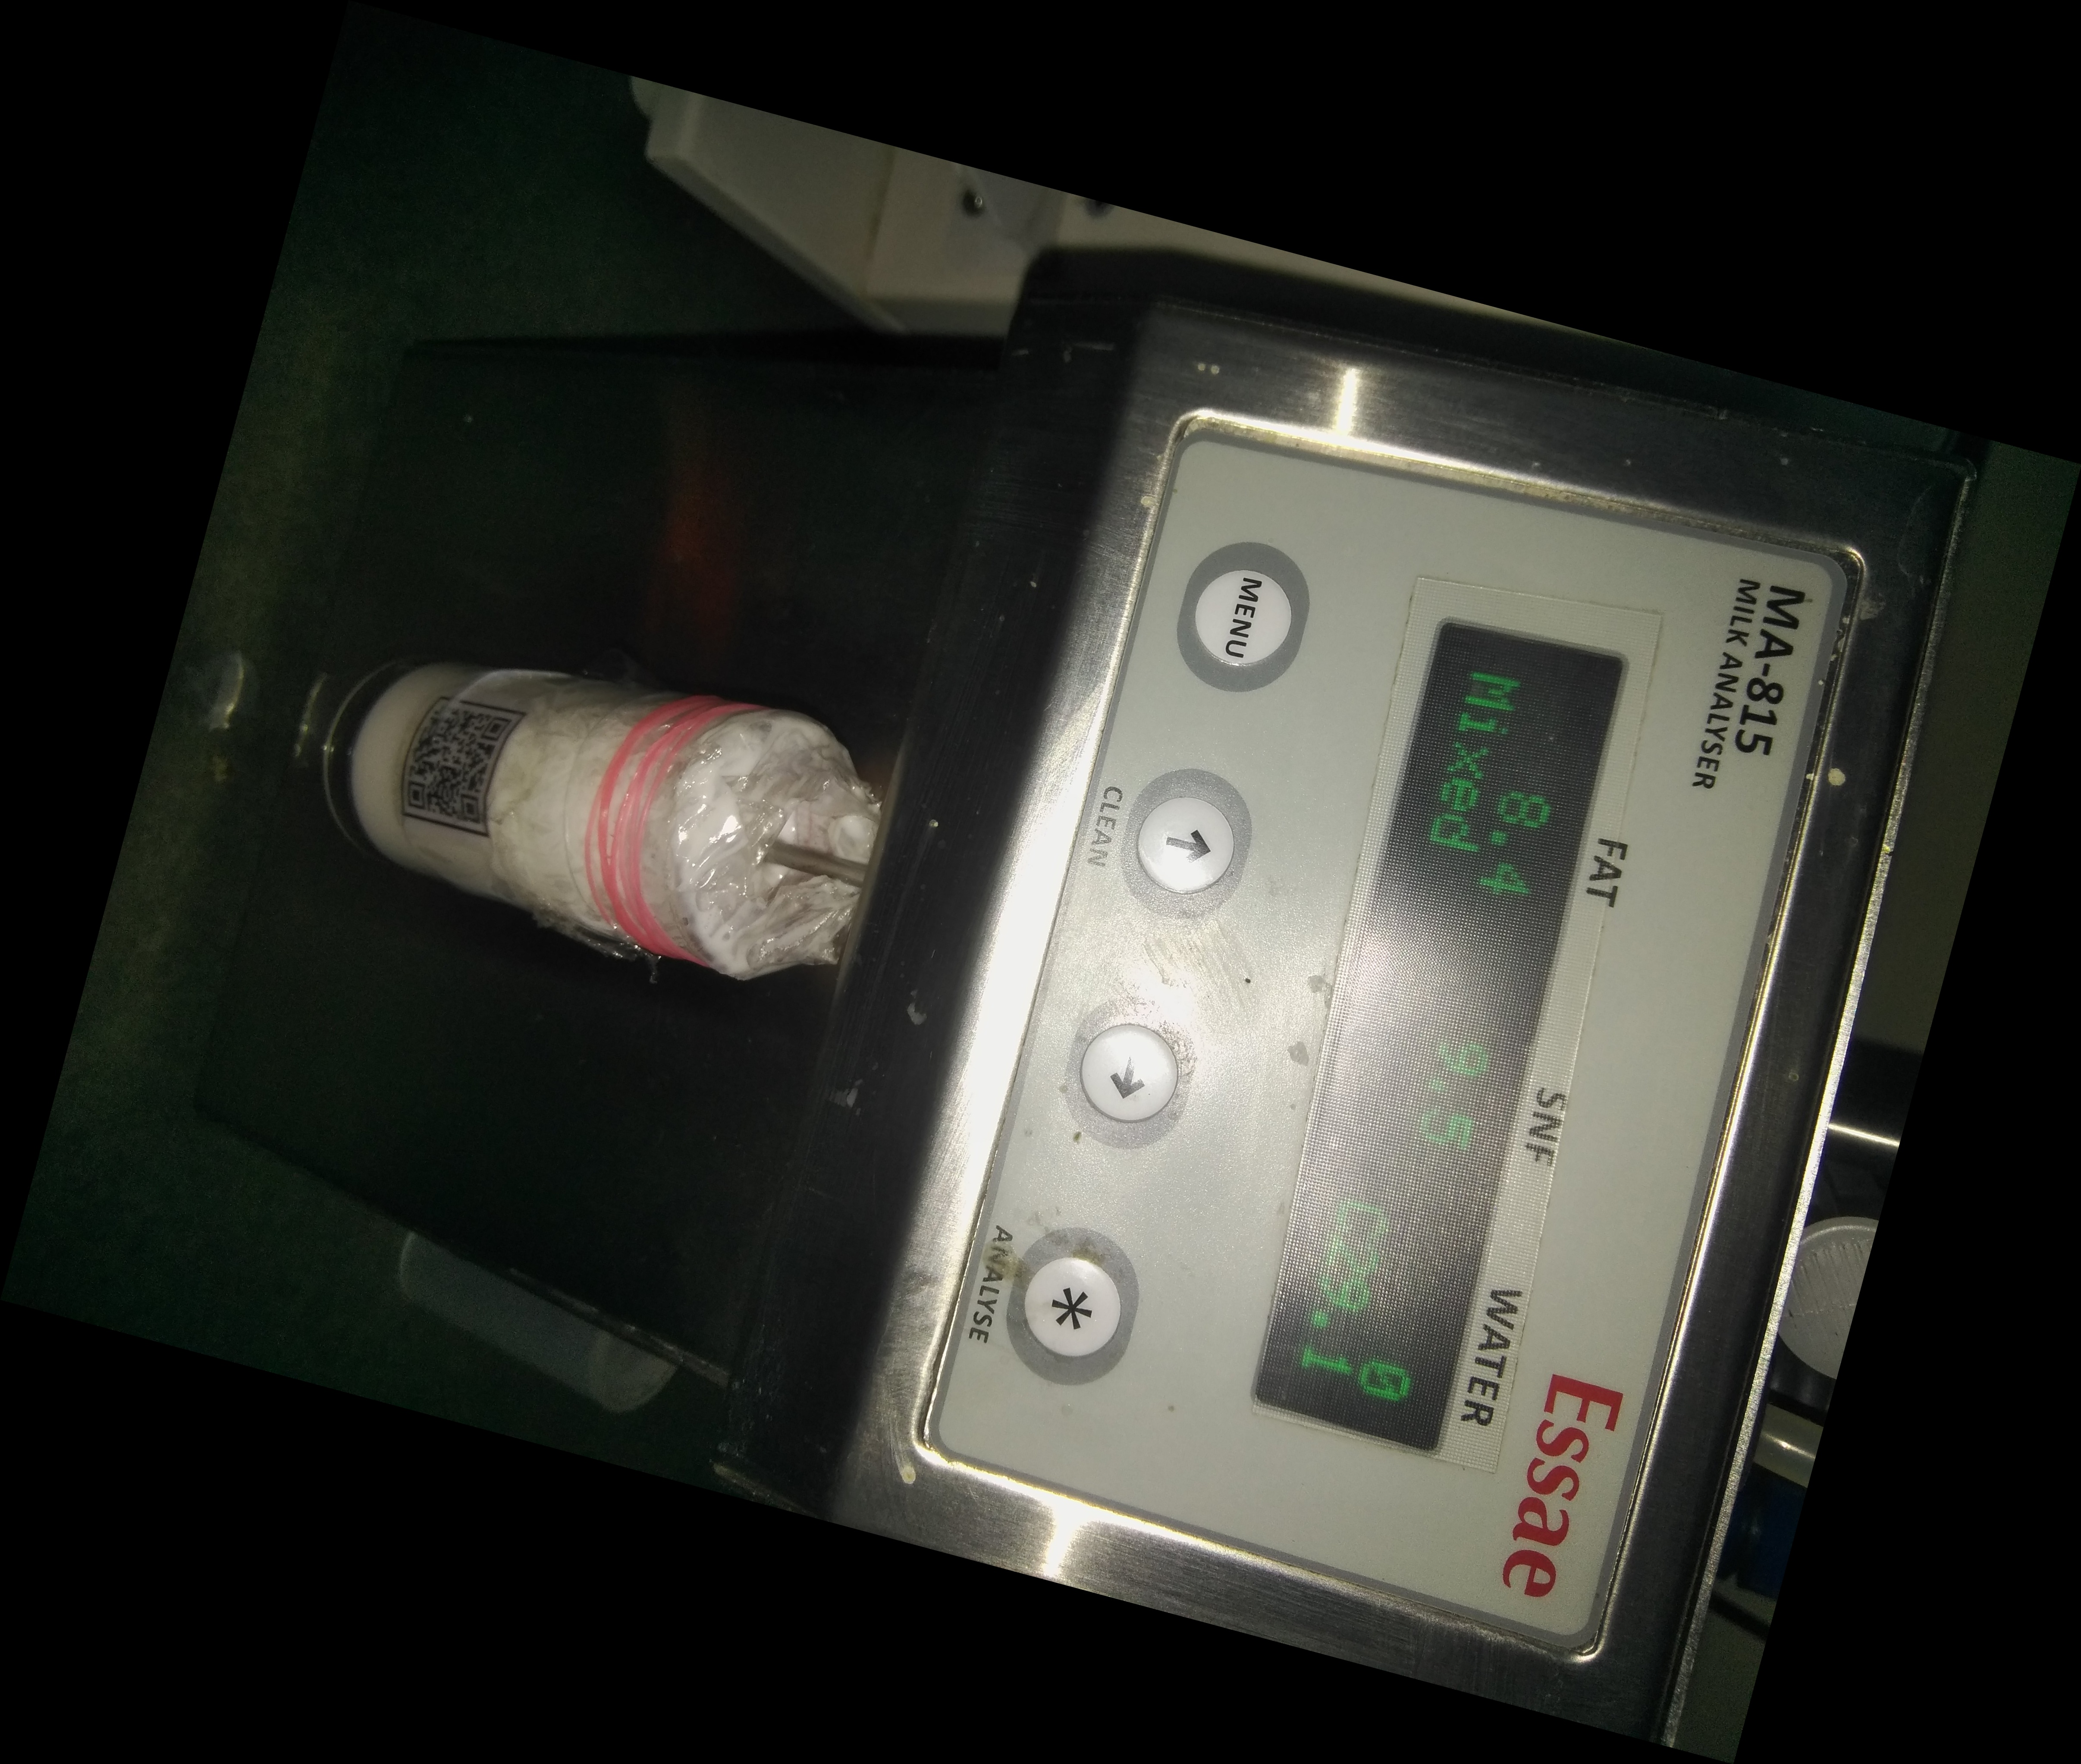lcd: (1241, 591, 1656, 1480)
qr: (387, 677, 530, 852)
